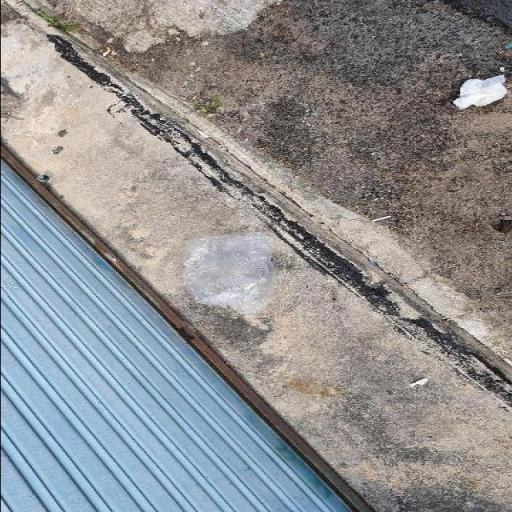plastic-bag: (178, 232, 278, 326)
